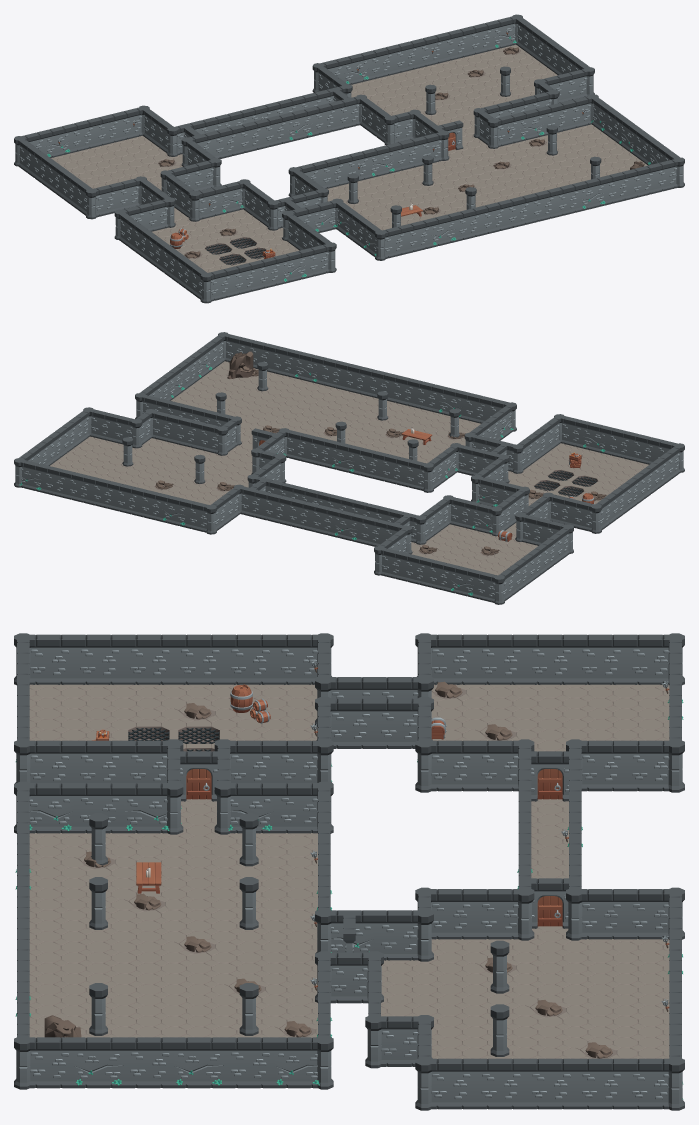
The model's file is crypt.glb.
The picture shows the model from 3 angles, top to bottom: view 1: azimuth 30°, elevation 25°; view 2: azimuth 150°, elevation 25°; view 3: azimuth 270°, elevation 25°; orthographic projection. The views are drawn at different scales.
Parts seen in each view (by area): view 1: wall_wall_667, wall_wall_145, wall_wall_cracked_151, wall_wall_659, wall_wall_673, wall_wall_157, wall_wall_635, wall_wall_cracked_663, wall_wall_cracked_639, wall_wall_56, wall_wall_60, wall_wall_14 (+53 smaller); view 2: wall_wall_60, wall_wall_368, wall_wall_cracked_8, wall_wall_149, wall_wall_46, wall_wall_56, wall_wall_354, wall_wall_cracked_36, wall_wall_42, wall_wall_50, wall_wall_cracked_135, wall_wall_155 (+56 smaller); view 3: wall_wall_cracked_601, wall_wall_102, wall_wall_186, wall_wall_452, wall_wall_551, wall_wall_72, wall_wall_106, wall_wall_404, wall_wall_509, wall_wall_555, wall_wall_224, wall_wall_cracked_505 (+184 smaller).
Part boxes in pixels (x1,y1,x2,y2): wall_wall_667: (603,170,631,205); wall_wall_145: (260,114,288,148); wall_wall_cracked_151: (285,108,313,142); wall_wall_659: (553,182,581,217); wall_wall_673: (628,164,656,198); wall_wall_157: (310,102,338,136); wall_wall_635: (404,219,432,253); wall_wall_cracked_663: (578,176,606,210); wall_wall_cracked_639: (429,213,456,247); wall_wall_56: (441,27,469,61); wall_wall_60: (466,21,494,55); wall_wall_14: (68,119,95,152); wall_wall_60: (41,465,68,498); wall_wall_368: (306,435,333,468); wall_wall_cracked_8: (449,564,476,597); wall_wall_149: (285,497,312,530); wall_wall_46: (113,482,140,515); wall_wall_56: (65,471,92,504); wall_wall_354: (378,452,405,485); wall_wall_cracked_36: (161,494,188,527); wall_wall_42: (137,488,164,521); wall_wall_50: (89,476,116,509); wall_wall_cracked_135: (333,509,360,542); wall_wall_155: (261,491,288,524); wall_wall_cracked_601: (73,1037,123,1088); wall_wall_102: (575,1058,625,1109); wall_wall_186: (525,1058,575,1109); wall_wall_452: (224,1037,274,1088); wall_wall_551: (123,1037,173,1088); wall_wall_72: (575,634,625,684); wall_wall_106: (525,634,575,684); wall_wall_404: (224,634,274,684); wall_wall_509: (123,634,173,684); wall_wall_555: (73,634,123,684); wall_wall_224: (475,1058,524,1109); wall_wall_cracked_505: (174,1037,223,1088).
Size of the model in its own units: 81.5 by 5 by 53.5.
1 material, 1 textured.
